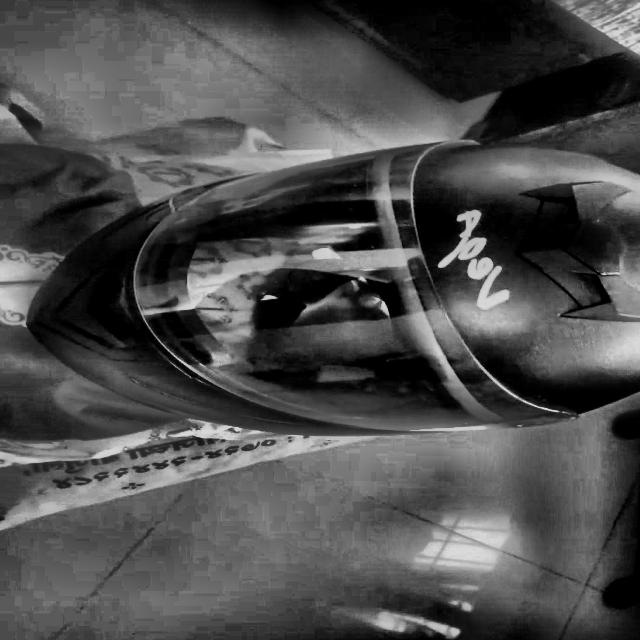Helmet: (38, 138, 640, 434)
